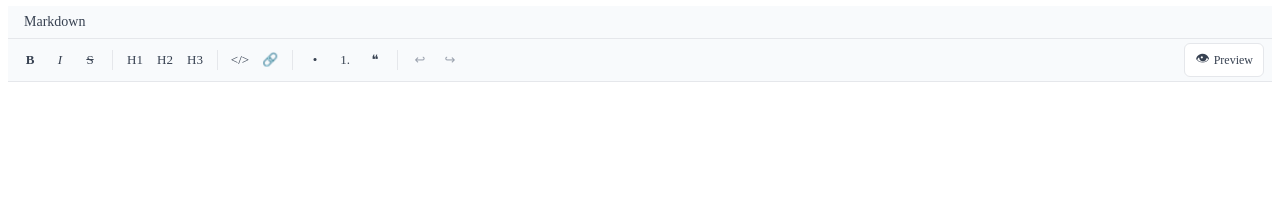
Test case: MarkdownEditor › 表示モード切り替え › プレビューモードでMarkdownコンテンツがHTMLとしてレンダリングされる
Click the button with aria-label "プレビュー表示に切り替え" at (1224, 60), box [1184,43,1264,77]
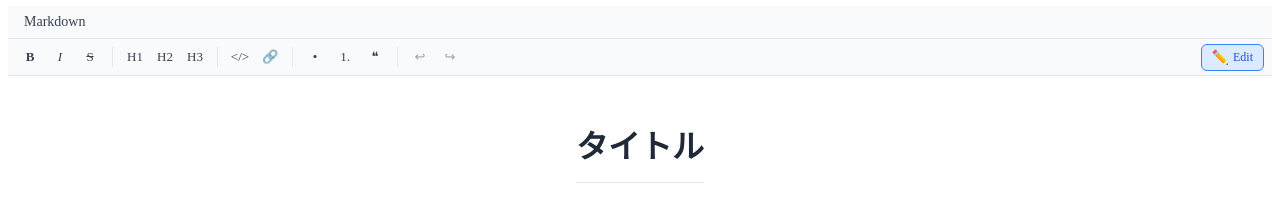
Result: the heading "タイトル" is shown at [576,121,704,183]
